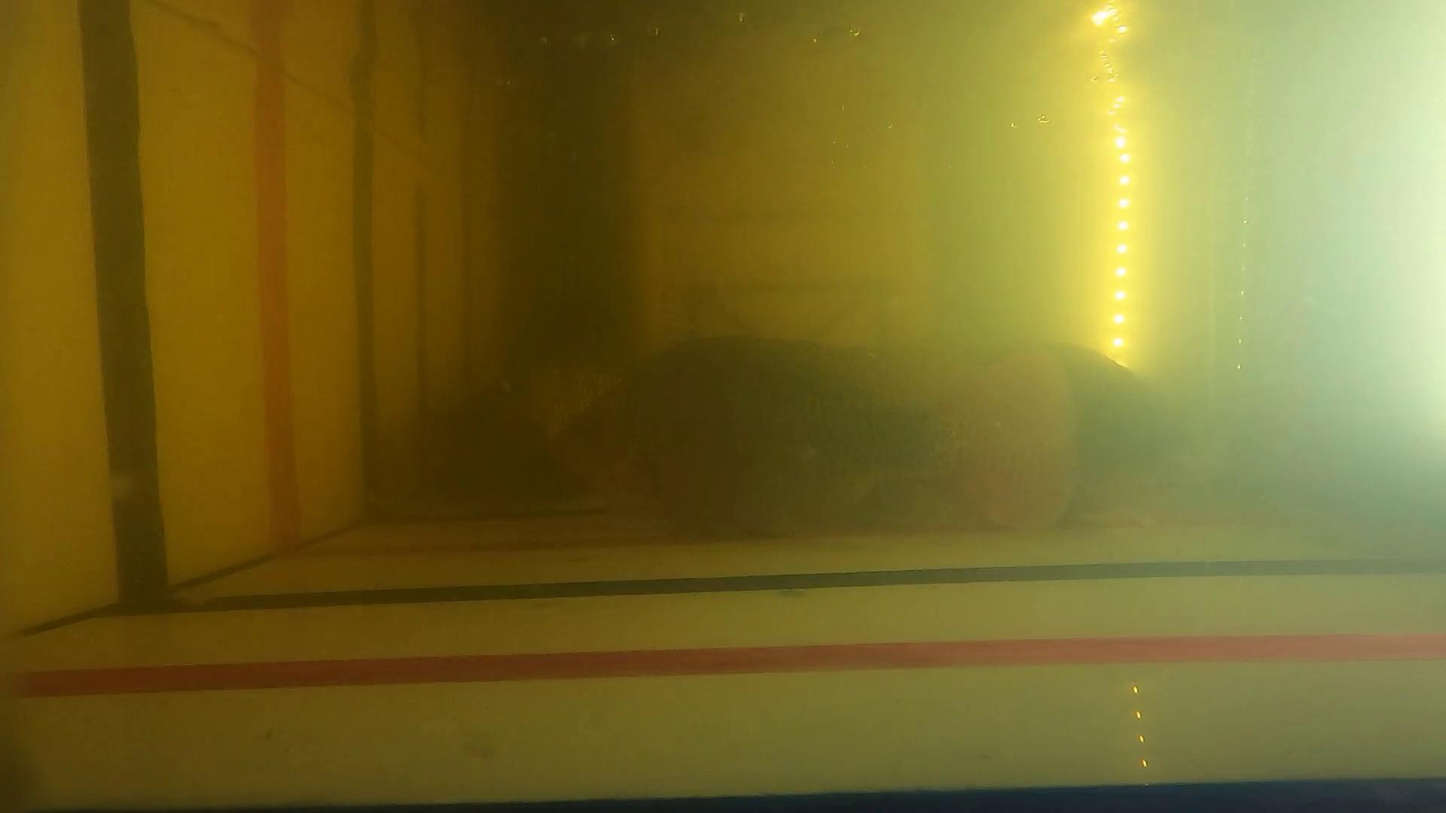Tilapia: (549, 338, 1078, 540)
